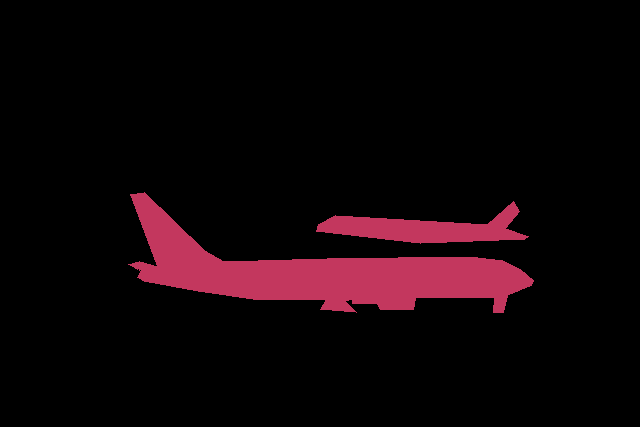Airplane: (128, 192, 533, 312), (316, 201, 529, 243)
